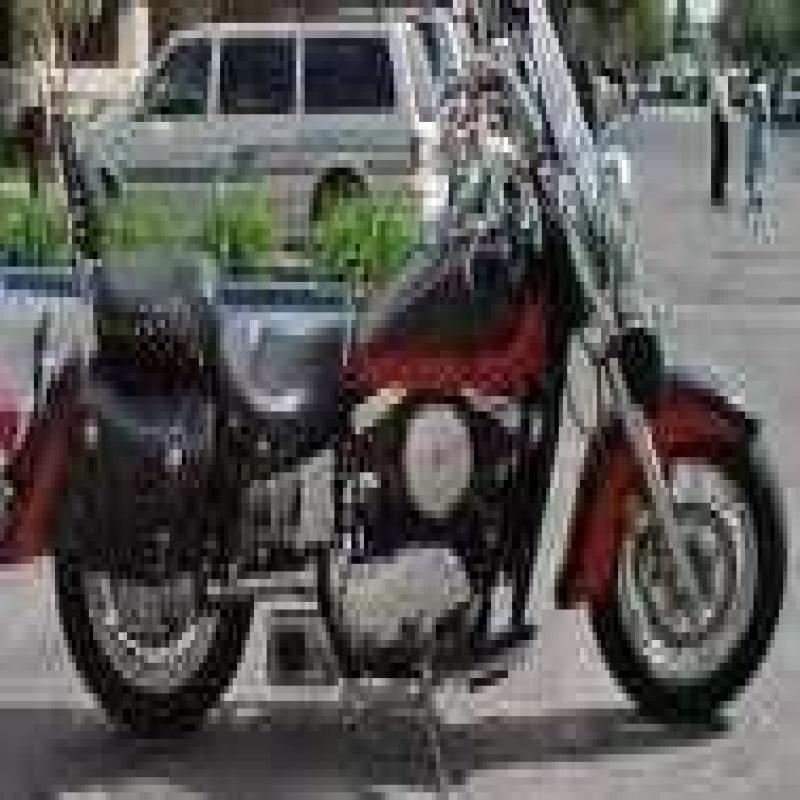bike: (20, 57, 789, 773)
